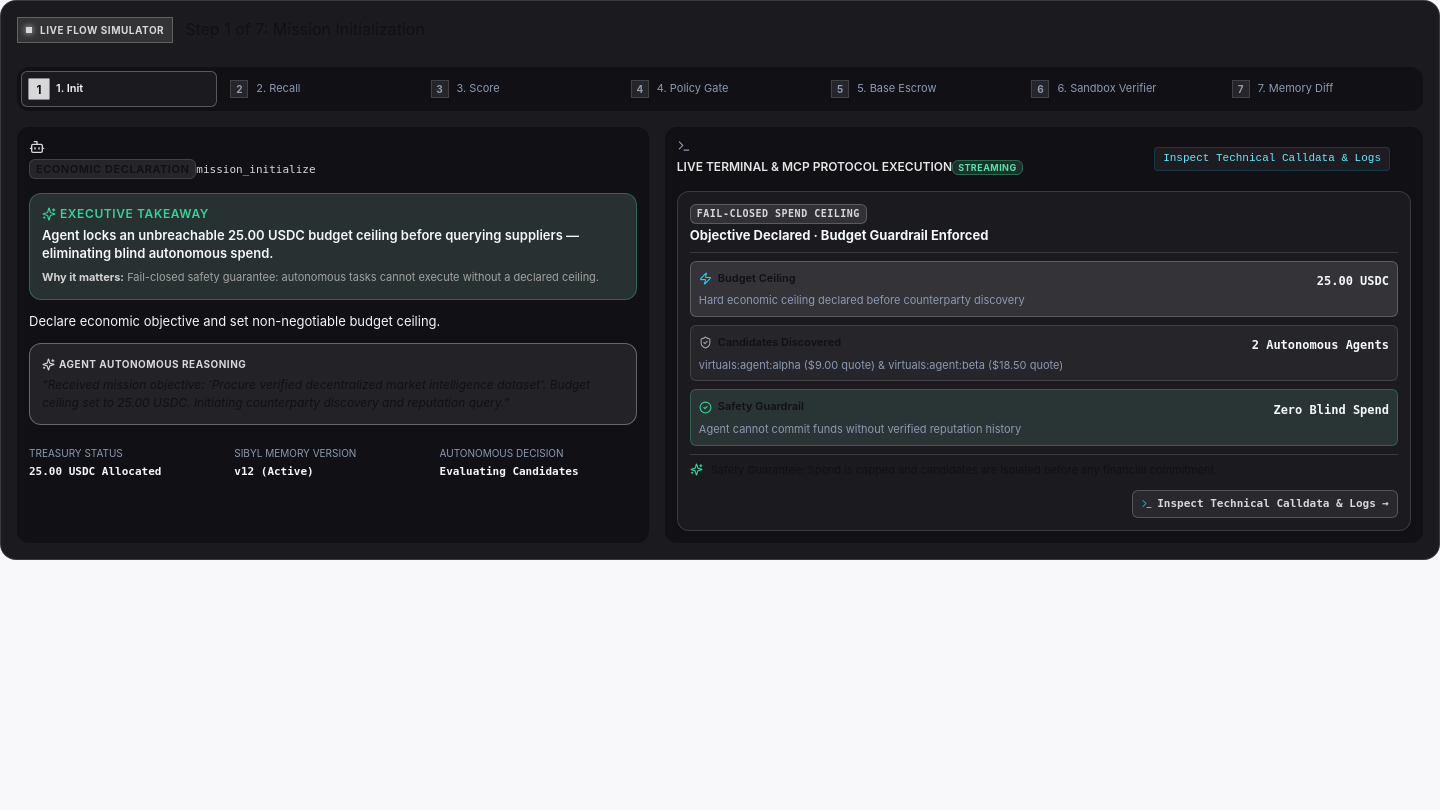
Sibyl Studio Components › SibylFlowSimulator › displays the decision flip storycard on step 3
The image size is (1440, 810).
Click the tab "3 3. Score". click: (520, 89)
box: x1=422 y1=71 x2=618 y2=107
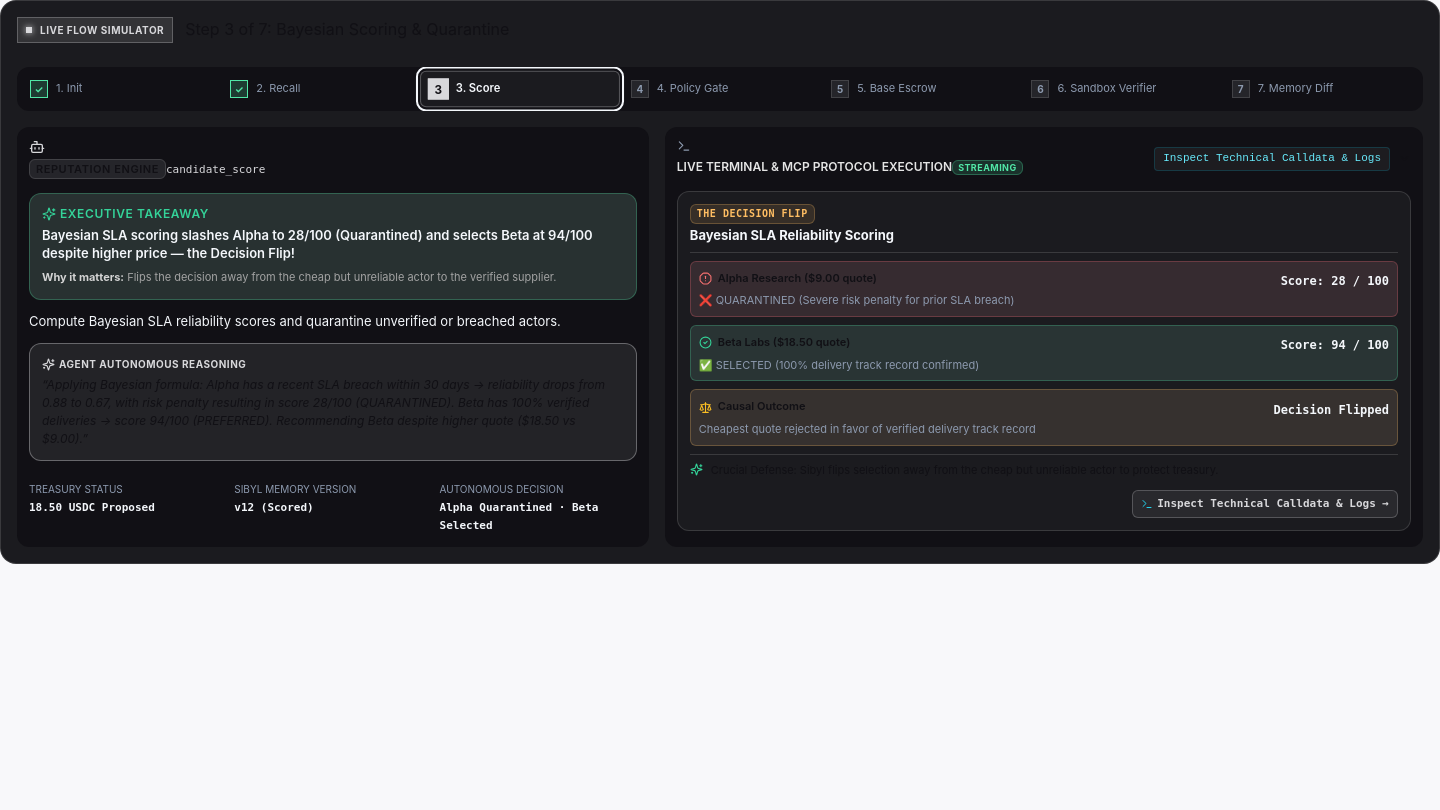
expect the text "THE DECISION FLIP" is shown: met, box x1=690 y1=204 x2=815 y2=224
expect the text "Score: 28 / 100" is shown: met, box x1=1281 y1=272 x2=1389 y2=291
expect the text "Score: 94 / 100" is shown: met, box x1=1281 y1=336 x2=1389 y2=356
